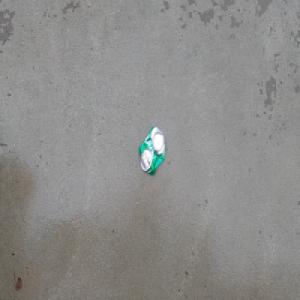SodaCan: (138, 124, 166, 177)
